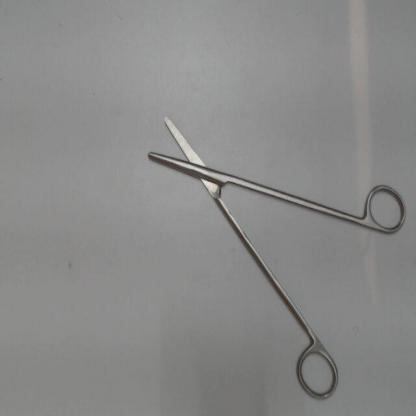9 Metzenbaum Scissors: (140, 109, 411, 408)
